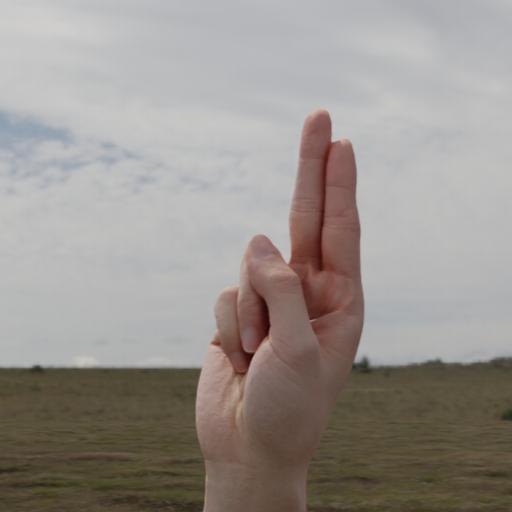U: (166, 84, 448, 510)
